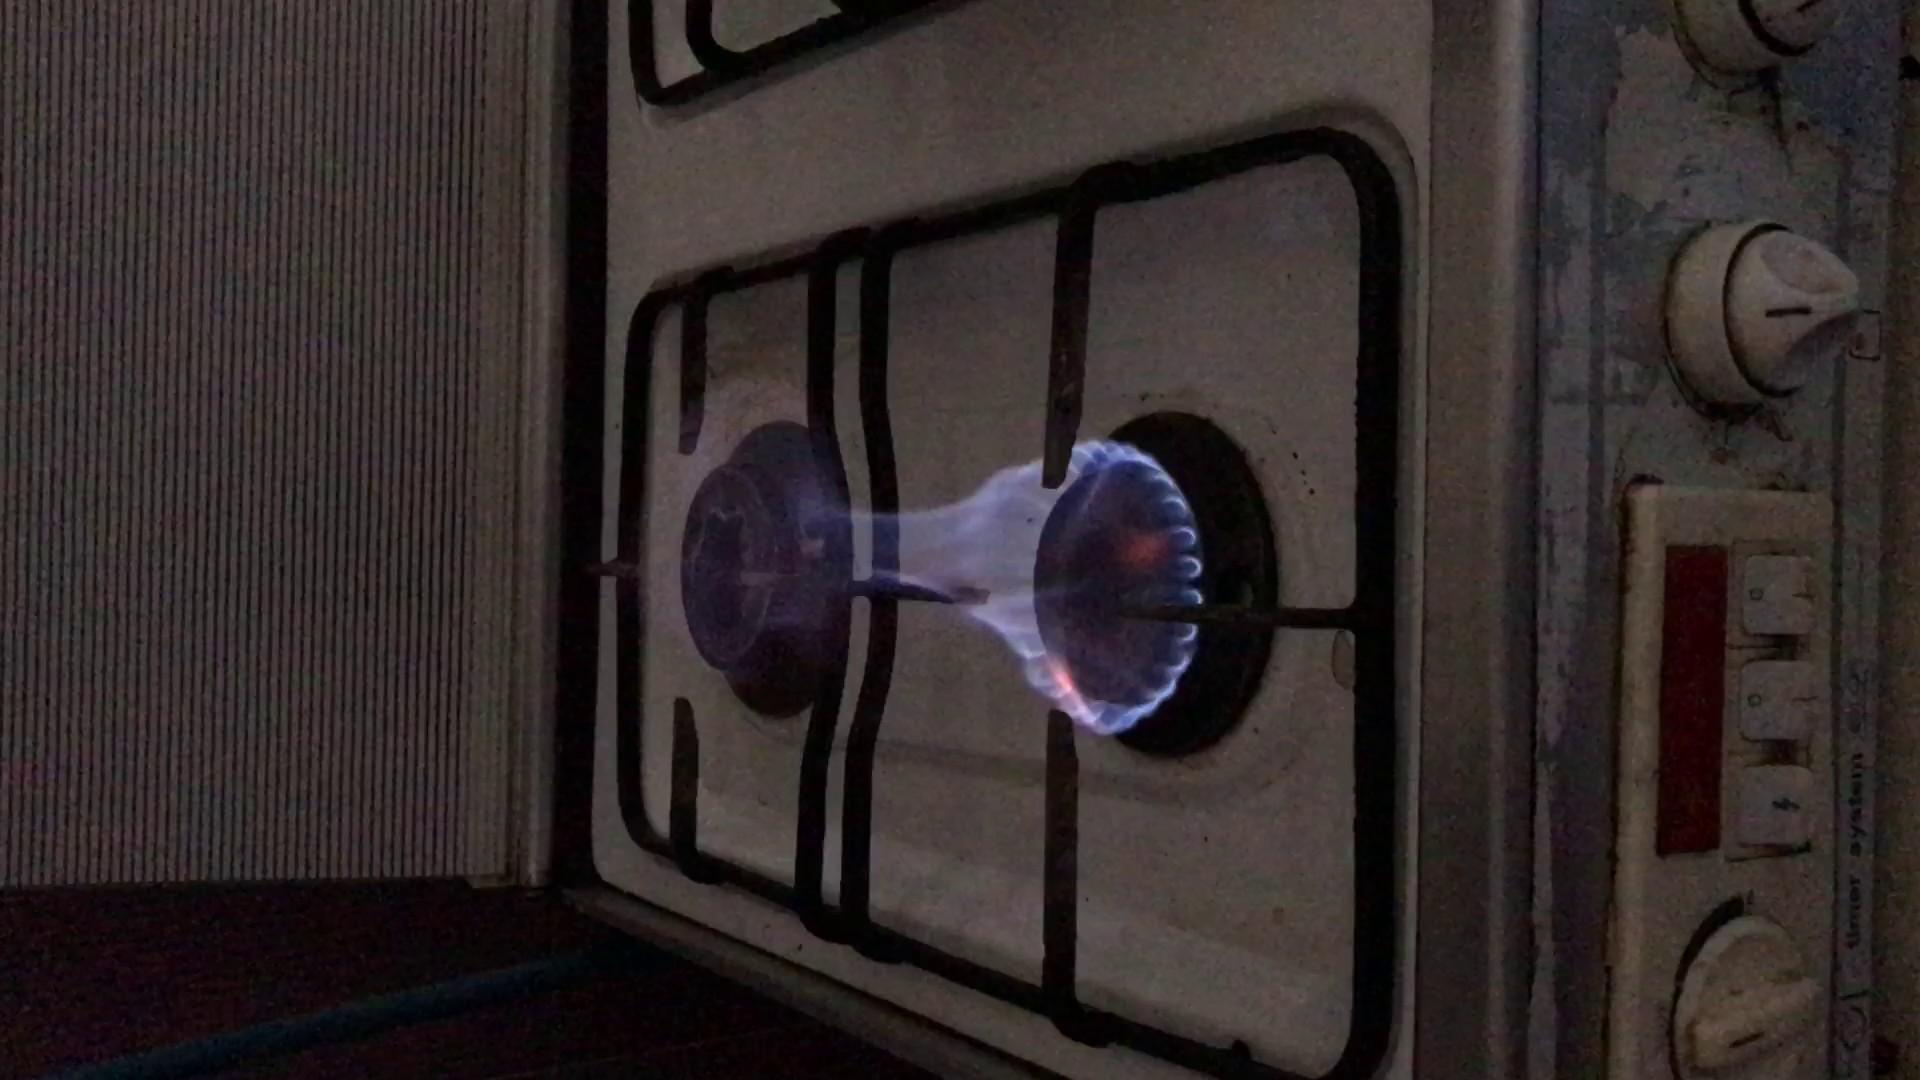fire: (535, 427, 1247, 684)
